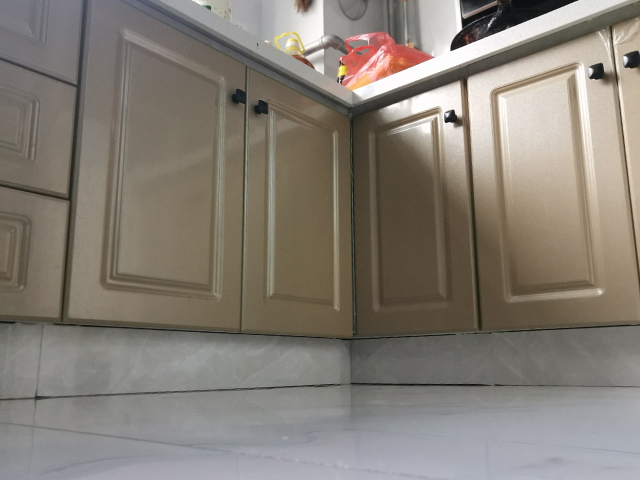cabinet: (1, 2, 352, 400), (359, 1, 640, 390)
